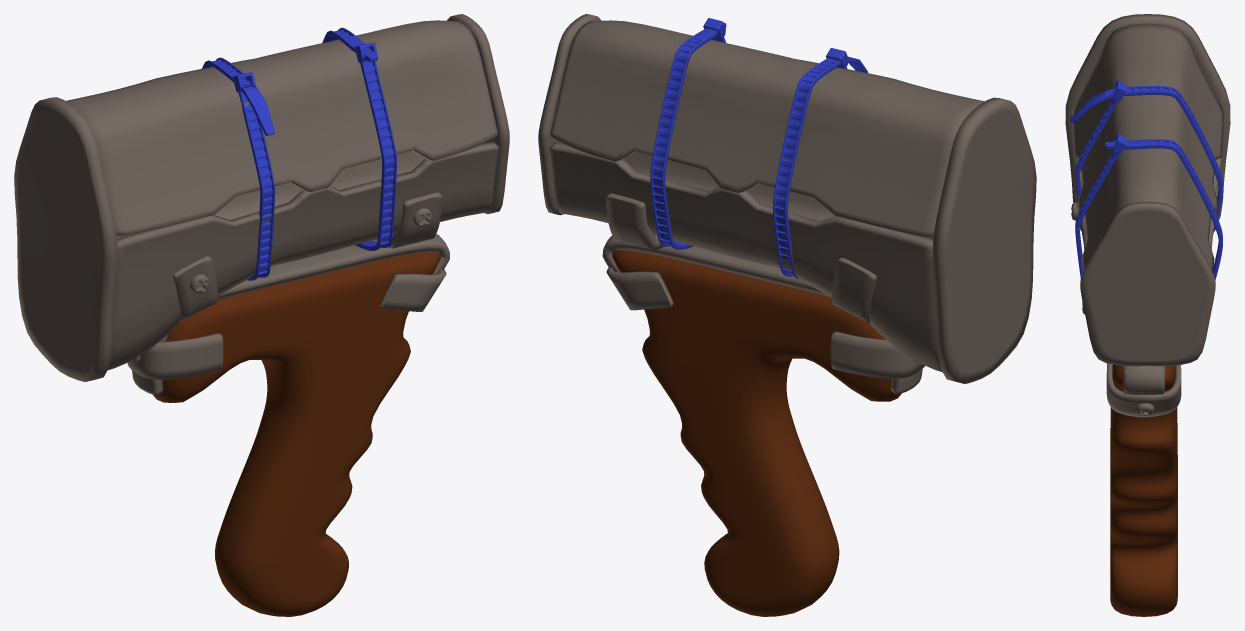
File: handguard_02.fbx
The picture shows the model from 3 angles, left to right: view 1: azimuth 30°, elevation 25°; view 2: azimuth 150°, elevation 25°; view 3: azimuth 270°, elevation 25°; orthographic projection. The views are drawn at different scales.
Visible parts, largest first — view 1: Cube.048, Plane, Cube.061, ttyy.001, Plane.072, Plane.144, Plane.124, ttyy, Cube.062; view 2: Cube.048, Plane, Cube.061, ttyy.001, Plane.124, ttyy, Plane.144, Plane.072, Cube.062; view 3: Cube.048, Cube.062, Plane, Cube.061, Plane.144, Plane.124, ttyy.001, Plane.072.
Part boxes in pixels (bbox=[...]): Cube.048: bbox=[66, 20, 498, 370]; Plane: bbox=[153, 252, 440, 616]; Cube.061: bbox=[14, 97, 117, 381]; ttyy.001: bbox=[127, 269, 446, 379]; Plane.072: bbox=[132, 234, 449, 395]; Plane.144: bbox=[202, 57, 275, 280]; Plane.124: bbox=[322, 27, 397, 250]; ttyy: bbox=[173, 192, 442, 322]; Cube.062: bbox=[447, 14, 509, 214]; Cube.048: bbox=[549, 20, 984, 372]; Plane: bbox=[612, 250, 901, 616]; Cube.061: bbox=[932, 97, 1036, 383]; ttyy.001: bbox=[606, 267, 924, 378]; Plane.124: bbox=[650, 18, 726, 249]; ttyy: bbox=[605, 193, 876, 323]; Plane.144: bbox=[772, 48, 868, 278]; Plane.072: bbox=[602, 235, 922, 394]; Cube.062: bbox=[538, 14, 601, 215]; Cube.048: bbox=[1072, 23, 1223, 271]; Cube.062: bbox=[1080, 202, 1215, 366]; Plane: bbox=[1110, 364, 1177, 616]; Cube.061: bbox=[1065, 14, 1230, 231]; Plane.144: bbox=[1070, 80, 1222, 242]; Plane.124: bbox=[1075, 134, 1222, 279]; ttyy.001: bbox=[1106, 363, 1181, 417]; Plane.072: bbox=[1122, 365, 1165, 394].
Size of the model in its own units: 51.01 by 66.3 by 19.72.
